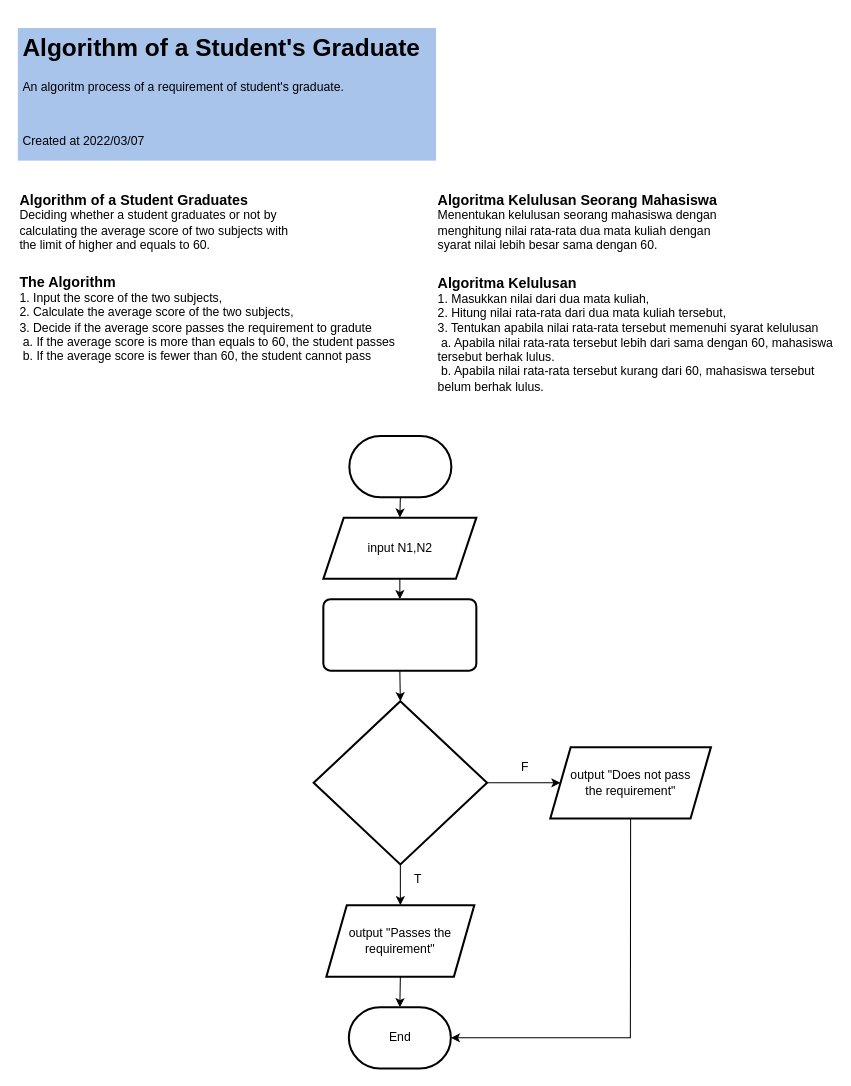
Image size: 851x1086. Some labels were removed from this diagram. Here are the shapes that lost their labels. From the top down, the centre of each, then its label:
At [400,466]: "Start".
At [399,634]: "the mean=(N1+N2)/2".
At [400,782]: "the mean=>60?".
